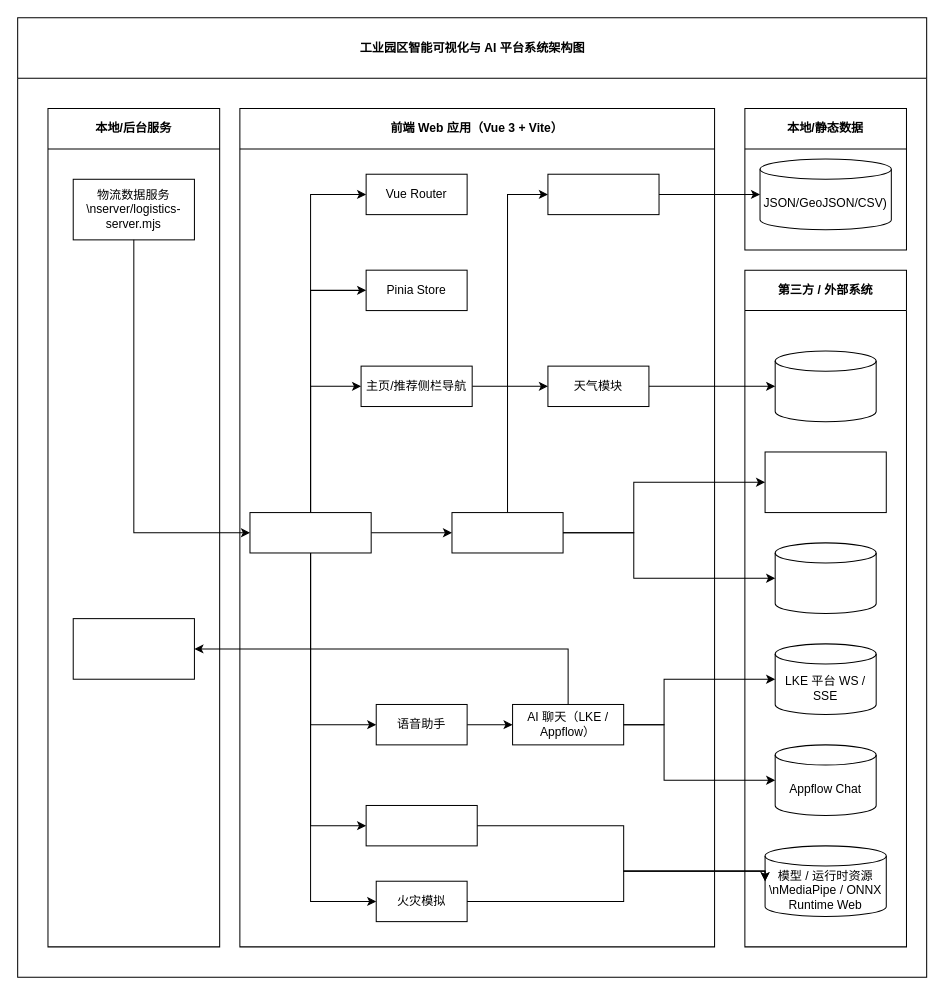
This 944x995 diagram has some shape labels left out. The centre of each missing label's shape, as x and y in pixels:
Token 签发服务\nserver/lke-token-server.mjs: pixel 133 648
Views & Components: pixel 310 532
和风天气 API: pixel 825 386
地图与三维可视化: pixel 507 532
地图图层与工具: pixel 603 194
视频识别（Web Workers）: pixel 421 825
高德 JS SDK: pixel 825 482
高德 REST: pixel 825 578
